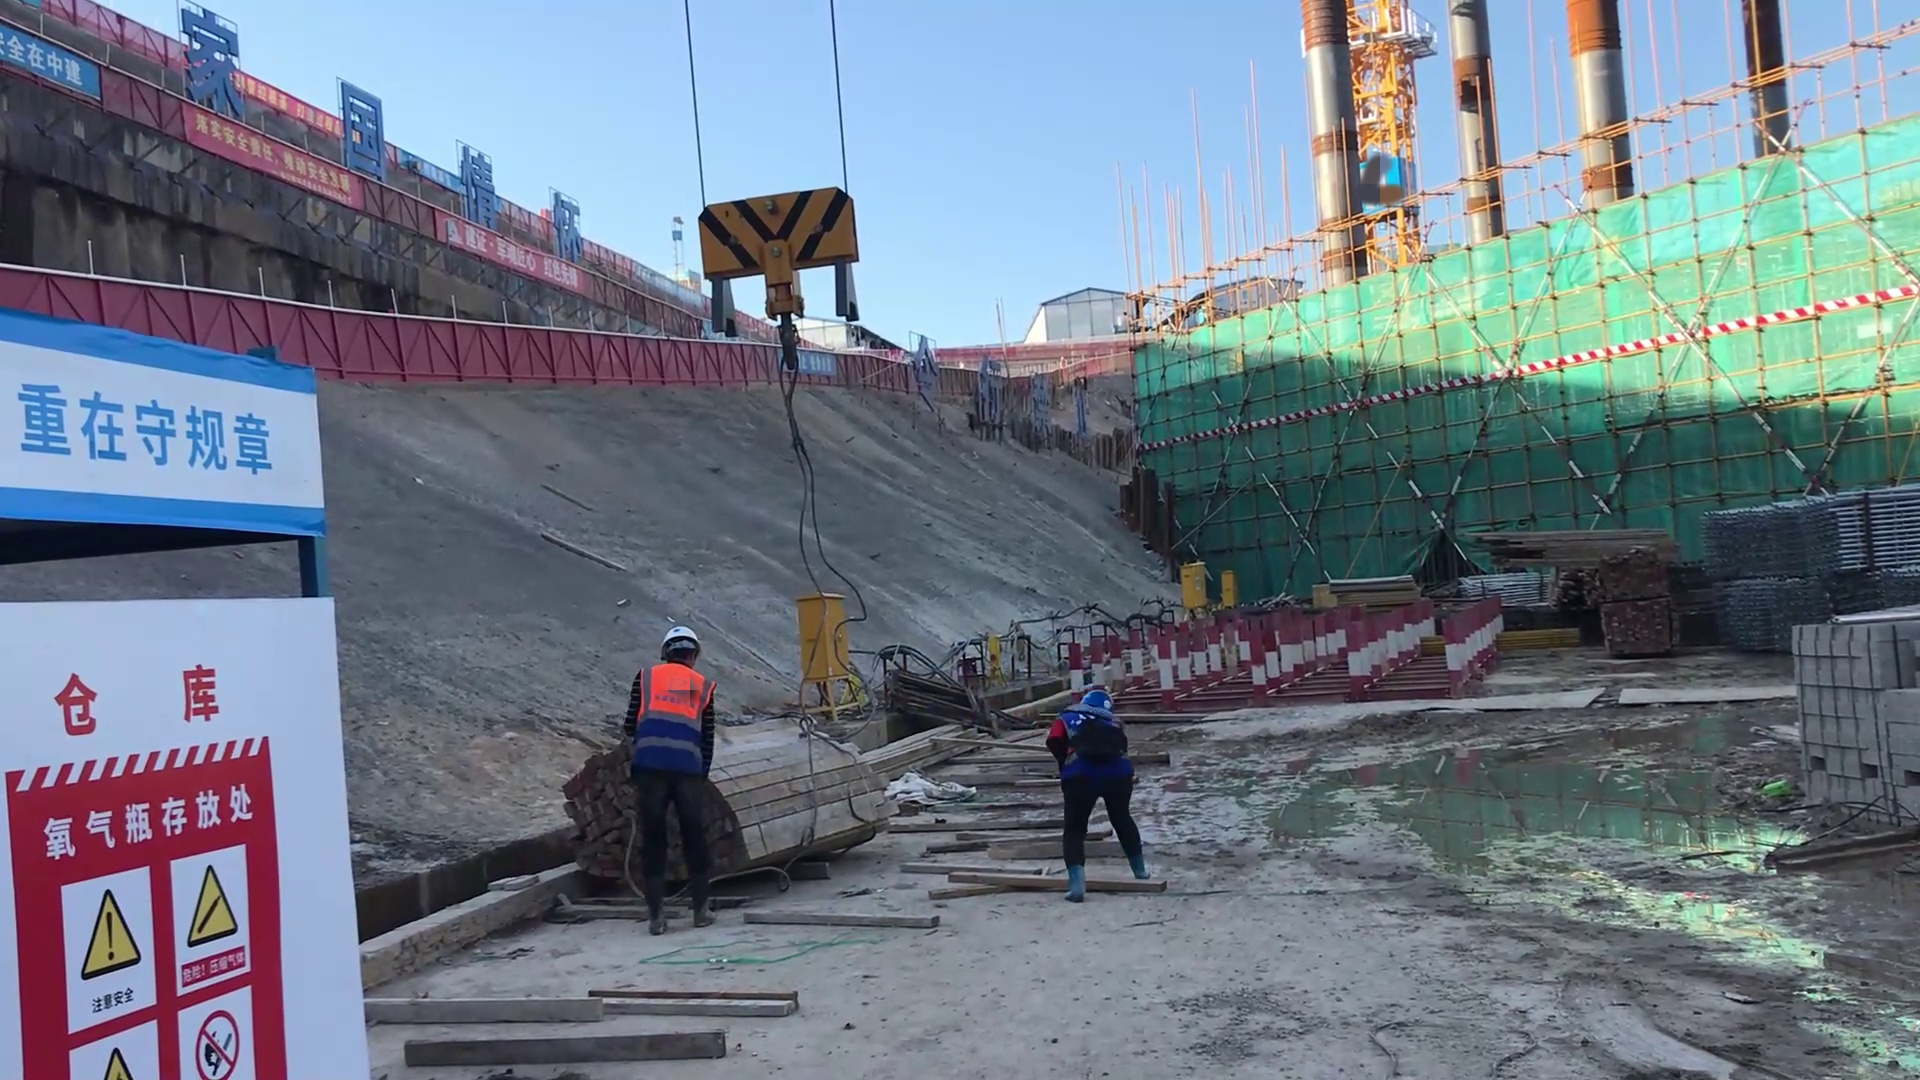brick: (1789, 609, 1920, 826)
ebox: (792, 579, 849, 701), (1175, 560, 1212, 616), (1217, 566, 1237, 606)
fence: (306, 308, 629, 389), (625, 335, 762, 390)
helmet: (655, 610, 702, 661)
hook: (696, 172, 866, 346)
person: (625, 617, 733, 926), (1047, 674, 1164, 909)
scaffold: (1689, 492, 1915, 602)
slogan: (33, 776, 292, 1080), (163, 79, 377, 249), (9, 367, 292, 487), (1, 41, 104, 111)
vest: (641, 661, 708, 737)
wood: (737, 712, 877, 864), (1459, 508, 1678, 570)
